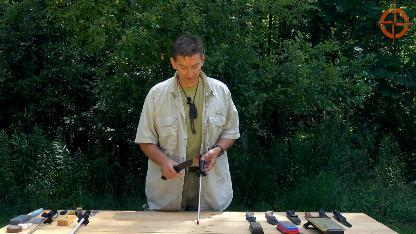knife: (160, 156, 194, 180)
